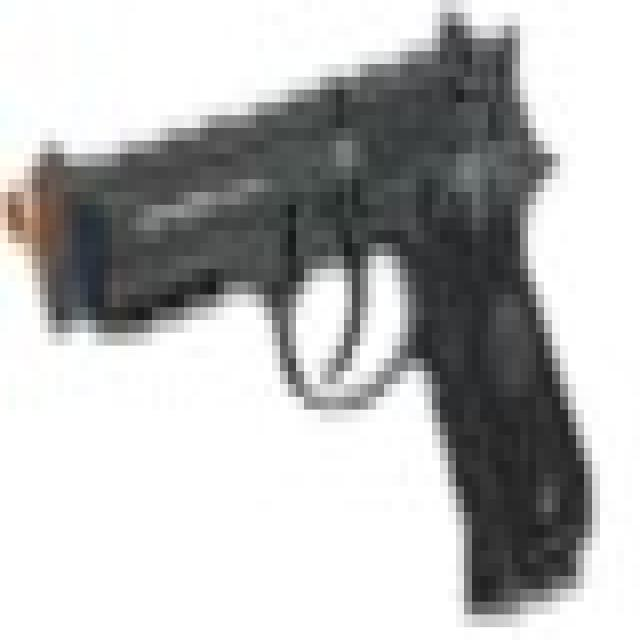pistol: (1, 1, 615, 623)
